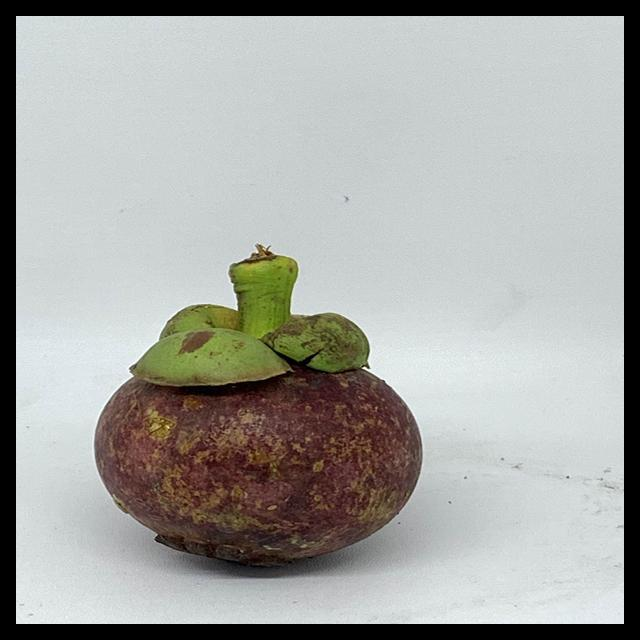mangosteen: (95, 244, 438, 571)
